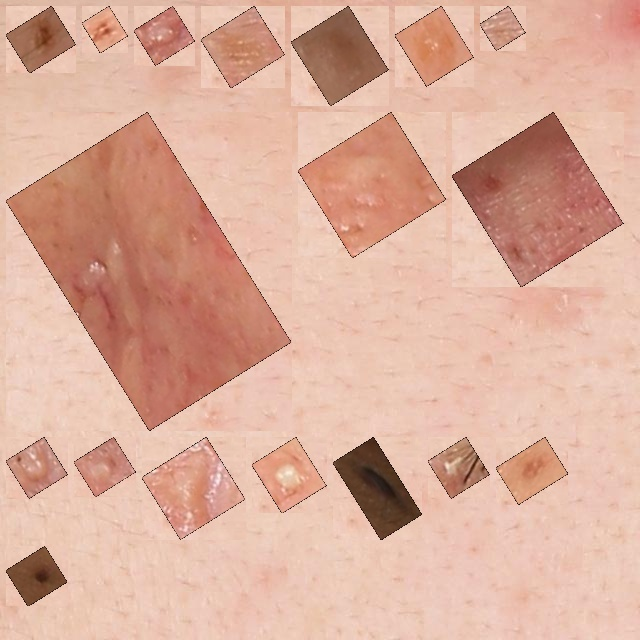hypertrophic_scar: (17, 123, 280, 419), (463, 123, 612, 276), (309, 123, 435, 247), (153, 448, 234, 528), (17, 448, 56, 487), (85, 448, 125, 486)
melasma: (302, 17, 377, 95), (212, 17, 274, 77), (406, 17, 462, 75), (507, 448, 557, 493), (491, 17, 514, 39)
nevus: (344, 448, 411, 529), (17, 17, 65, 62), (17, 557, 56, 595), (93, 17, 117, 42)
pustule: (263, 448, 315, 502), (439, 448, 478, 487), (145, 17, 184, 54)
